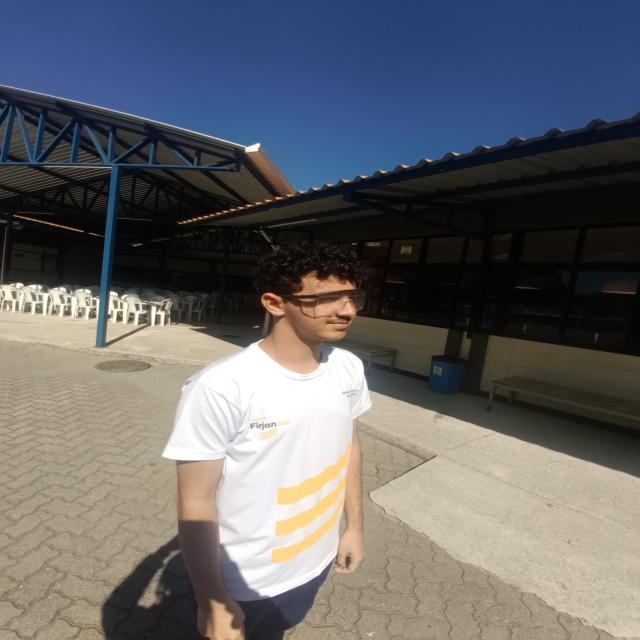oculos-epi: (278, 290, 366, 314)
